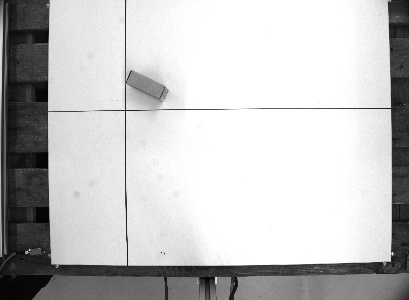b1: (125, 68, 171, 104)
